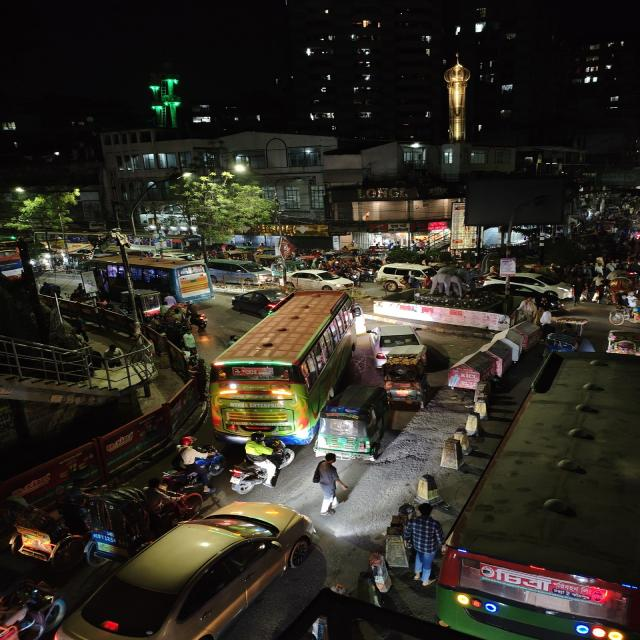bus: (440, 350, 640, 640), (205, 290, 359, 446), (135, 260, 218, 306)
car: (49, 503, 316, 640), (366, 322, 428, 362), (230, 288, 291, 318), (286, 268, 357, 292), (220, 259, 278, 288), (519, 273, 573, 302), (374, 265, 410, 291)
cng: (316, 383, 390, 465)
motorcycle: (225, 435, 292, 497), (150, 435, 228, 487)
pedestrian: (402, 501, 445, 586), (312, 450, 348, 516), (413, 472, 442, 501)
rickshaw: (0, 505, 86, 567), (376, 354, 434, 411), (542, 314, 592, 352), (604, 327, 640, 361), (608, 291, 640, 326)
